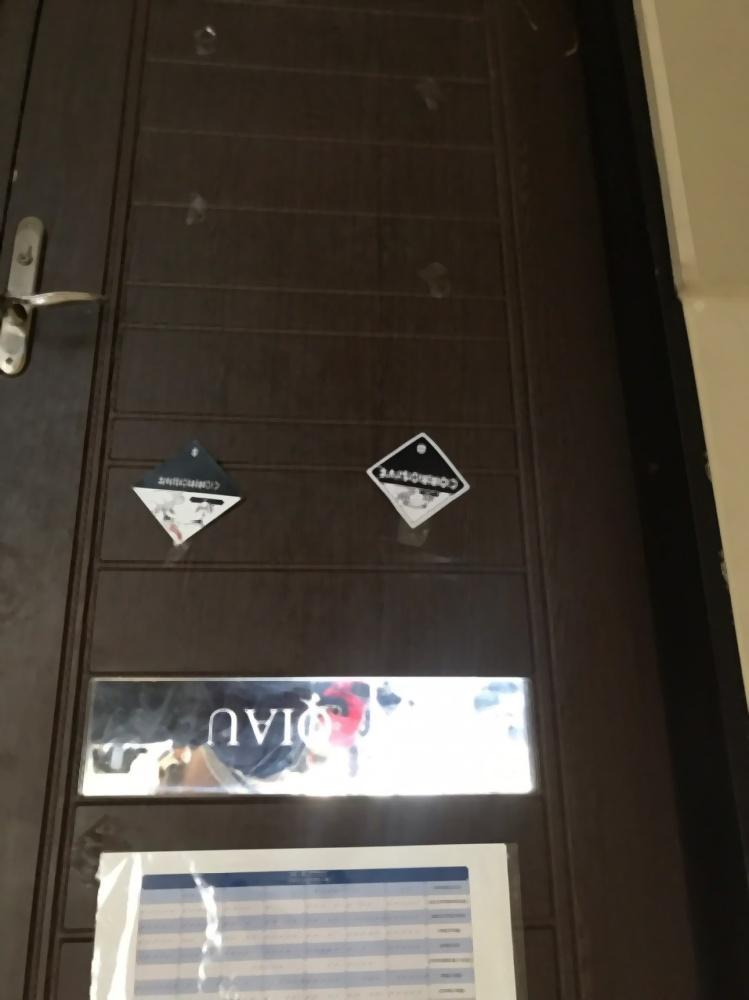corrosive: (129, 438, 246, 542), (366, 429, 472, 532)
